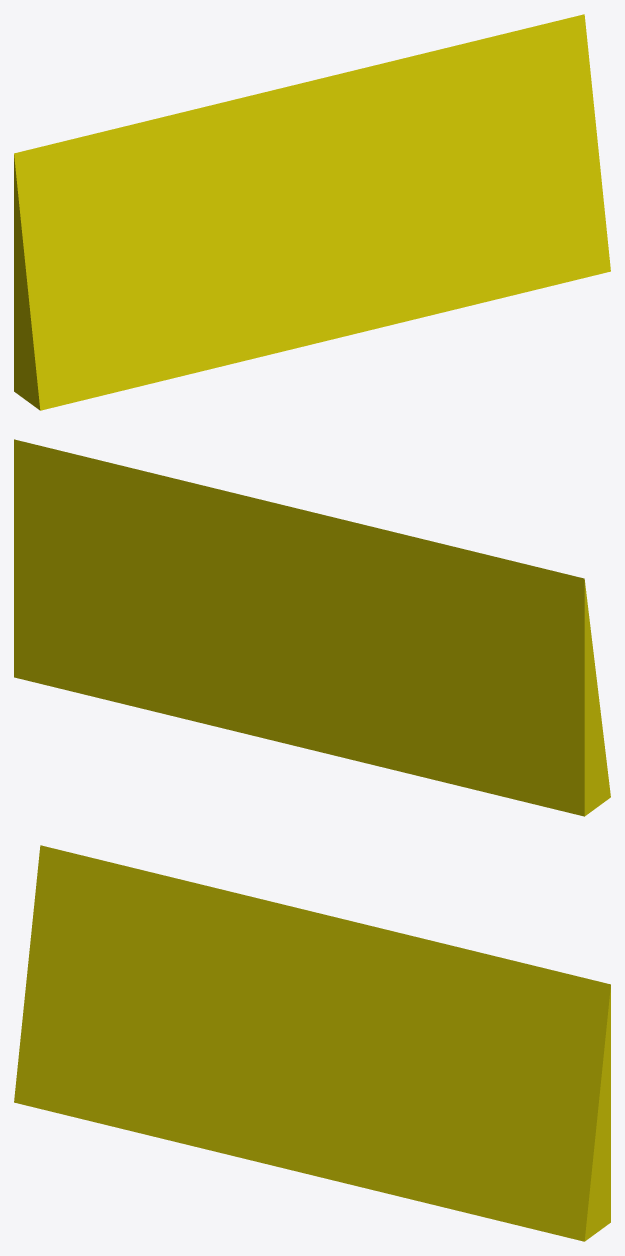
The model's file is Placa Nome das Comidas.fbx.
3 views of the same model, one above another, from view 1: azimuth 30°, elevation 25°; view 2: azimuth 150°, elevation 25°; view 3: azimuth 330°, elevation 25° (orthographic).
Parts seen in each view (by area): view 1: Cube; view 2: Cube; view 3: Cube.
Boxes of the visible parts, <box> form: Cube: <box>14,14,610,410</box>; Cube: <box>14,439,610,816</box>; Cube: <box>14,845,610,1241</box>.
Size of the model in its own units: 502 by 200 by 40.12.
